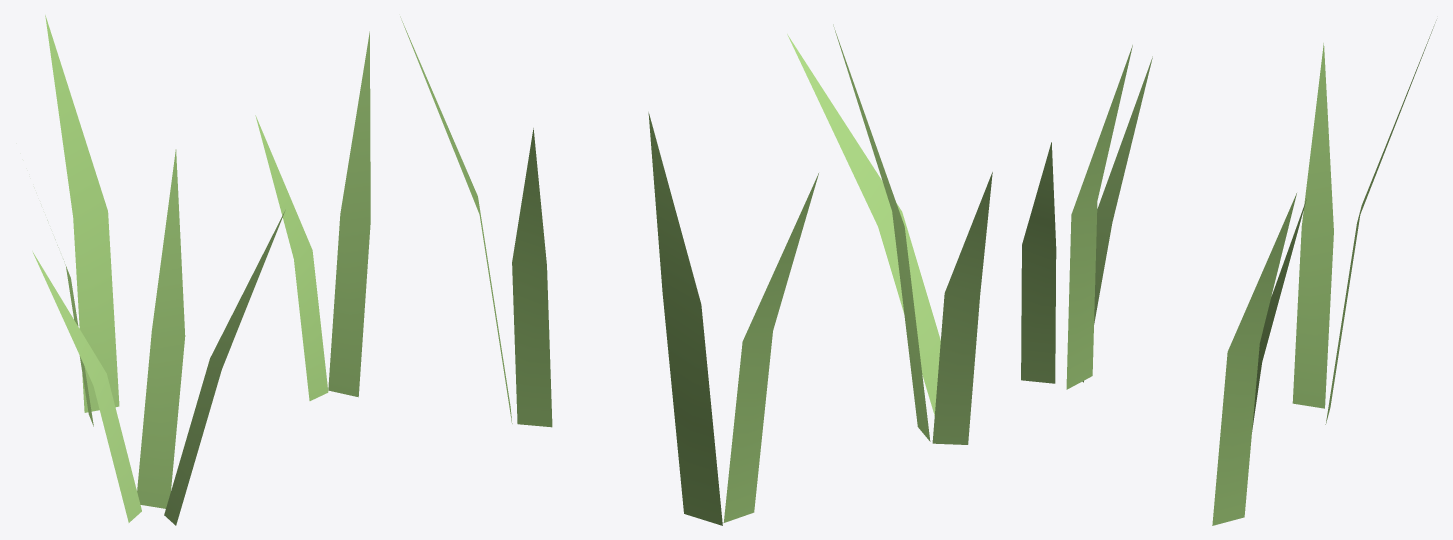
File: Grass_b_TwoS_06.fbx
3 views of the same model, side by side, from view 1: azimuth 30°, elevation 25°; view 2: azimuth 150°, elevation 25°; view 3: azimuth 270°, elevation 25° (orthographic). The views are drawn at different scales.
Visible parts, largest first — view 1: Grass_b_TwoS_06; view 2: Grass_b_TwoS_06; view 3: Grass_b_TwoS_06.
Boxes of the visible parts, box(x1,y1,x2,y2) form: Grass_b_TwoS_06: box(32, 15, 370, 525); Grass_b_TwoS_06: box(400, 16, 992, 525); Grass_b_TwoS_06: box(1021, 20, 1436, 525).
Size of the model in its own units: 54.76 by 47.46 by 44.45.
